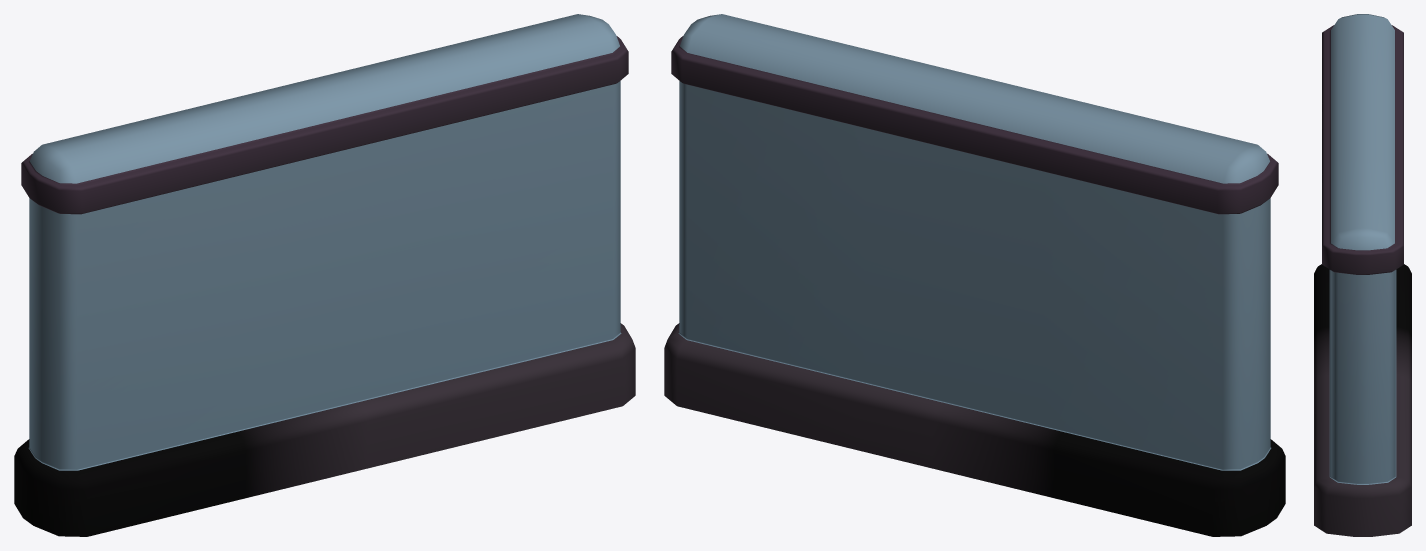
File: Env1_Wall_Green.fbx
3 renders of one model, left to right at view 1: azimuth 30°, elevation 25°; view 2: azimuth 150°, elevation 25°; view 3: azimuth 270°, elevation 25°, orthographic. The views are drawn at different scales.
Parts seen in each view (by area): view 1: Env1_Wall; view 2: Env1_Wall; view 3: Env1_Wall.
Part boxes in pixels (x1,y1,x2,y2): Env1_Wall: [14, 14, 635, 536]; Env1_Wall: [664, 14, 1285, 536]; Env1_Wall: [1314, 14, 1411, 536].
Bounding box in the file's own units: 332 × 195 × 58.24.
